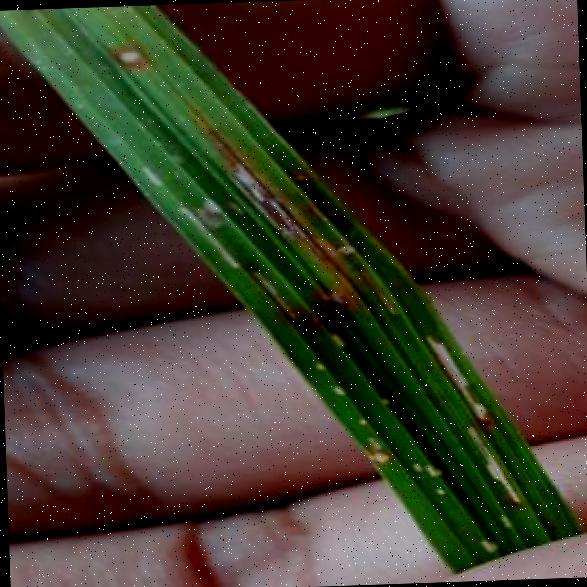Leaf_smut: (187, 100, 319, 240), (219, 234, 302, 333), (86, 31, 158, 80)
